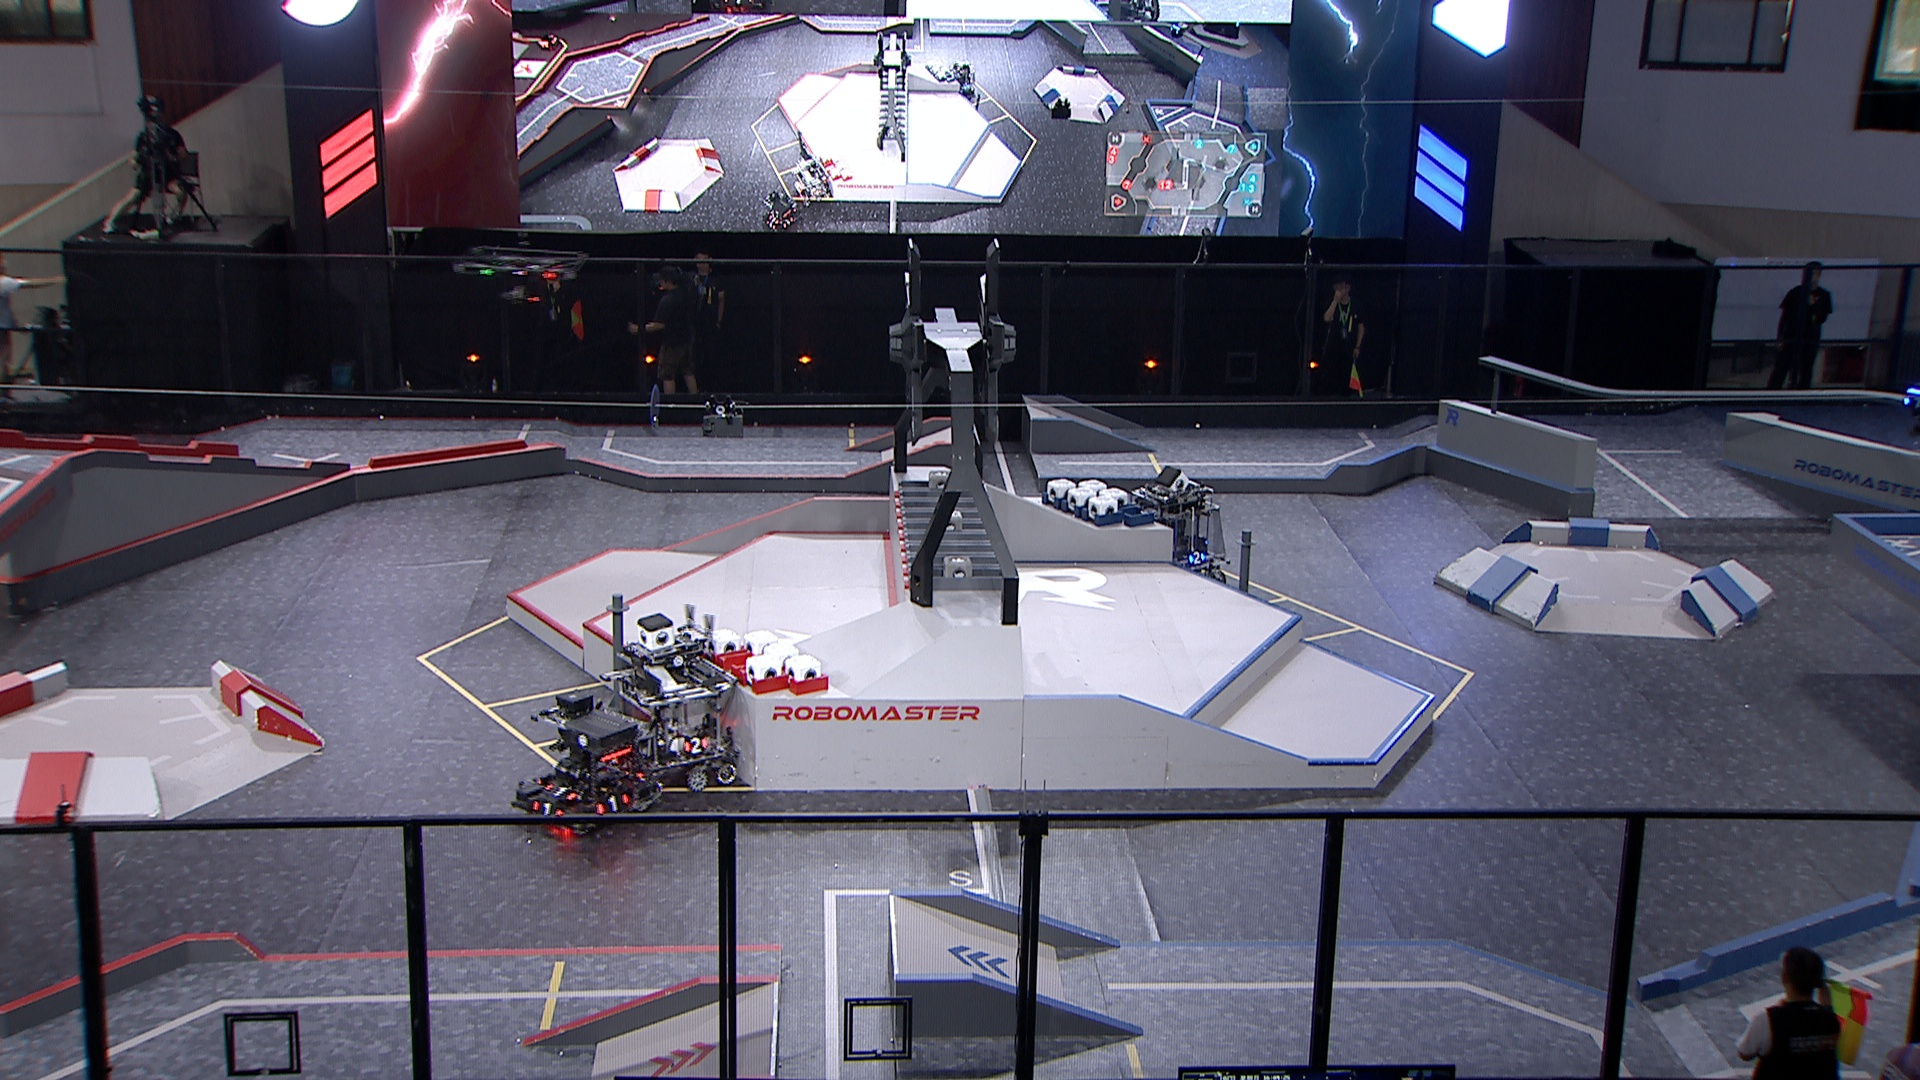armor: (596, 793, 628, 815), (529, 800, 560, 822), (547, 781, 575, 800), (684, 738, 711, 752), (1904, 394, 1920, 411), (1187, 553, 1207, 564)
car: (600, 633, 737, 799), (513, 698, 651, 841), (1129, 480, 1237, 585)
ignore: (932, 61, 978, 111), (757, 186, 802, 235), (783, 157, 829, 199), (534, 30, 560, 53), (1168, 16, 1189, 44)
watcher: (1892, 378, 1920, 439)
